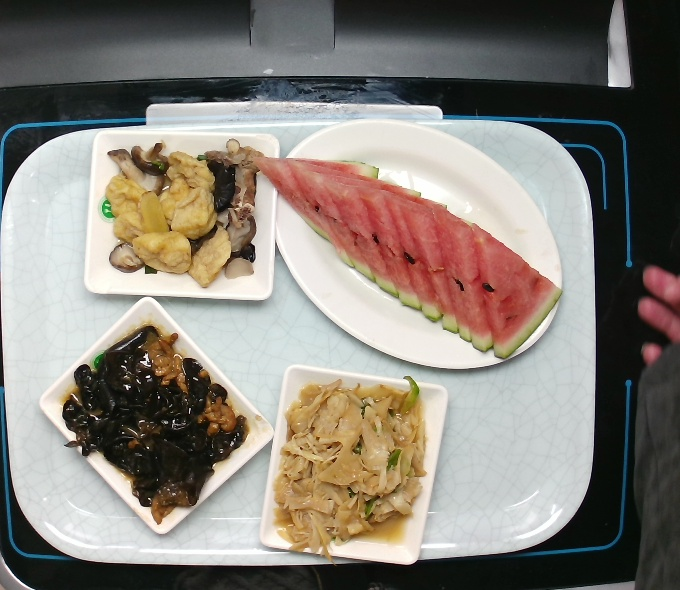wcq-LuSun: (270, 378, 428, 551)
wcq-MuErChaoRou: (58, 321, 244, 522)
wcq-XiGua: (256, 130, 570, 364)
wcq-YouPaoPaiGu: (101, 142, 263, 287)
